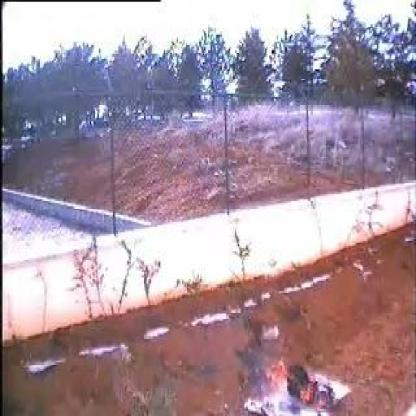foggia-v2-map80-epoch100 - v1 4323: (271, 360, 287, 392)
